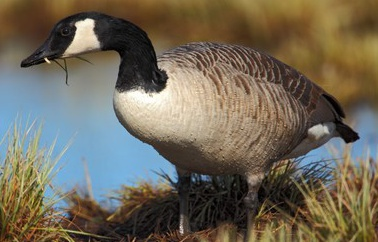goose: (15, 8, 370, 238)
